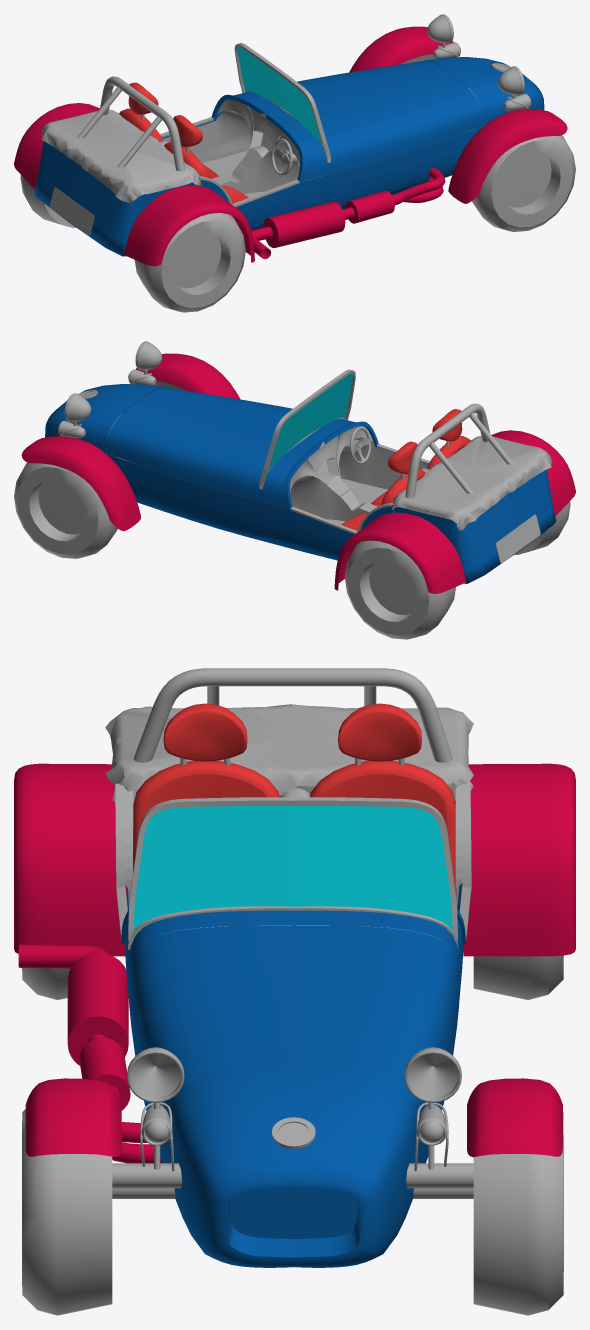
File: car_cabriolet.fbx
The picture shows the model from 3 angles, top to bottom: view 1: azimuth 30°, elevation 25°; view 2: azimuth 150°, elevation 25°; view 3: azimuth 270°, elevation 25°; orthographic projection. The views are drawn at different scales.
Visible parts, largest first — view 1: polySurface1331; view 2: polySurface1331; view 3: polySurface1331.
Boxes of the visible parts, x1,y1,x2,y2 form: polySurface1331: [14, 14, 575, 312]; polySurface1331: [14, 341, 575, 639]; polySurface1331: [14, 668, 575, 1315].
Size of the model in its own units: 355 by 125 by 193.
